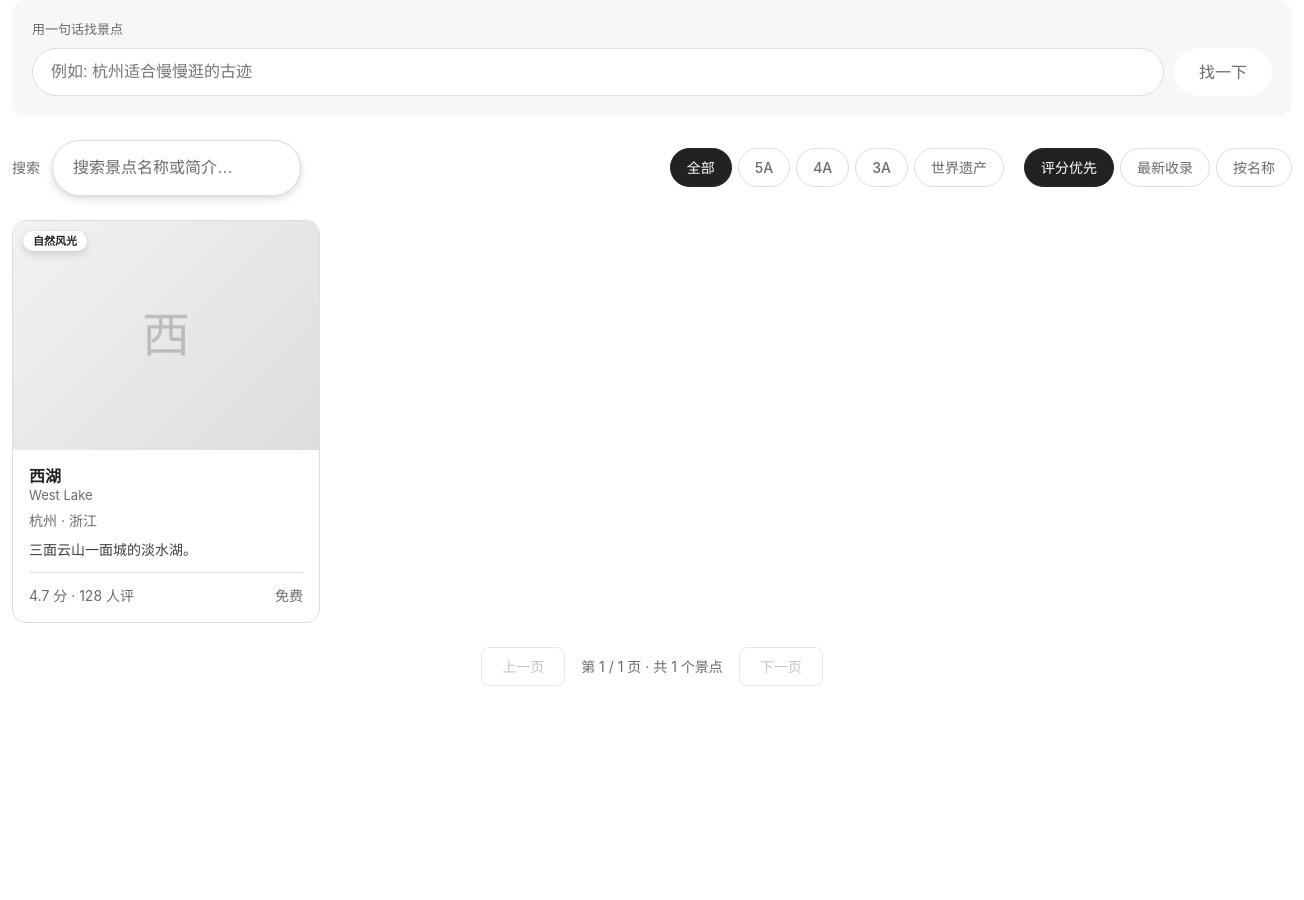
Test case: AttractionBrowser › AI 可用且出了结果时, 普通检索那条列表收起来
The width and height of the screenshot is (1304, 900).
Check: the heading "西湖" is shown, box [29,466,61,486]
// 面板的输入与普通搜索框都是 searchbox, 用 label 区分
Type "杭州的古迹" into the search field labelled "用一句话找景点" at (598, 72), box [32,48,1164,96]
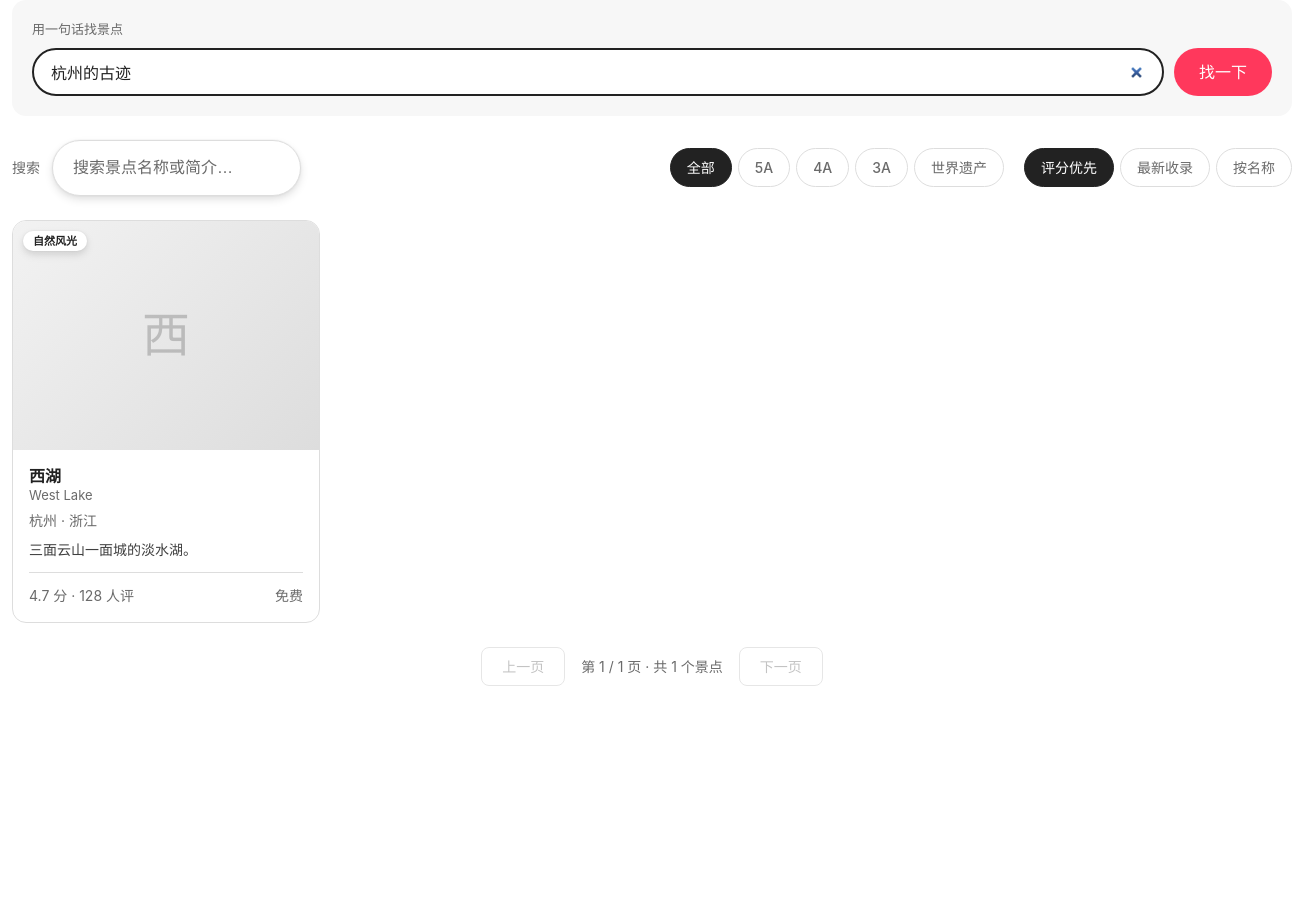
Click the button "找一下" at (1223, 72), box [1174,48,1272,96]
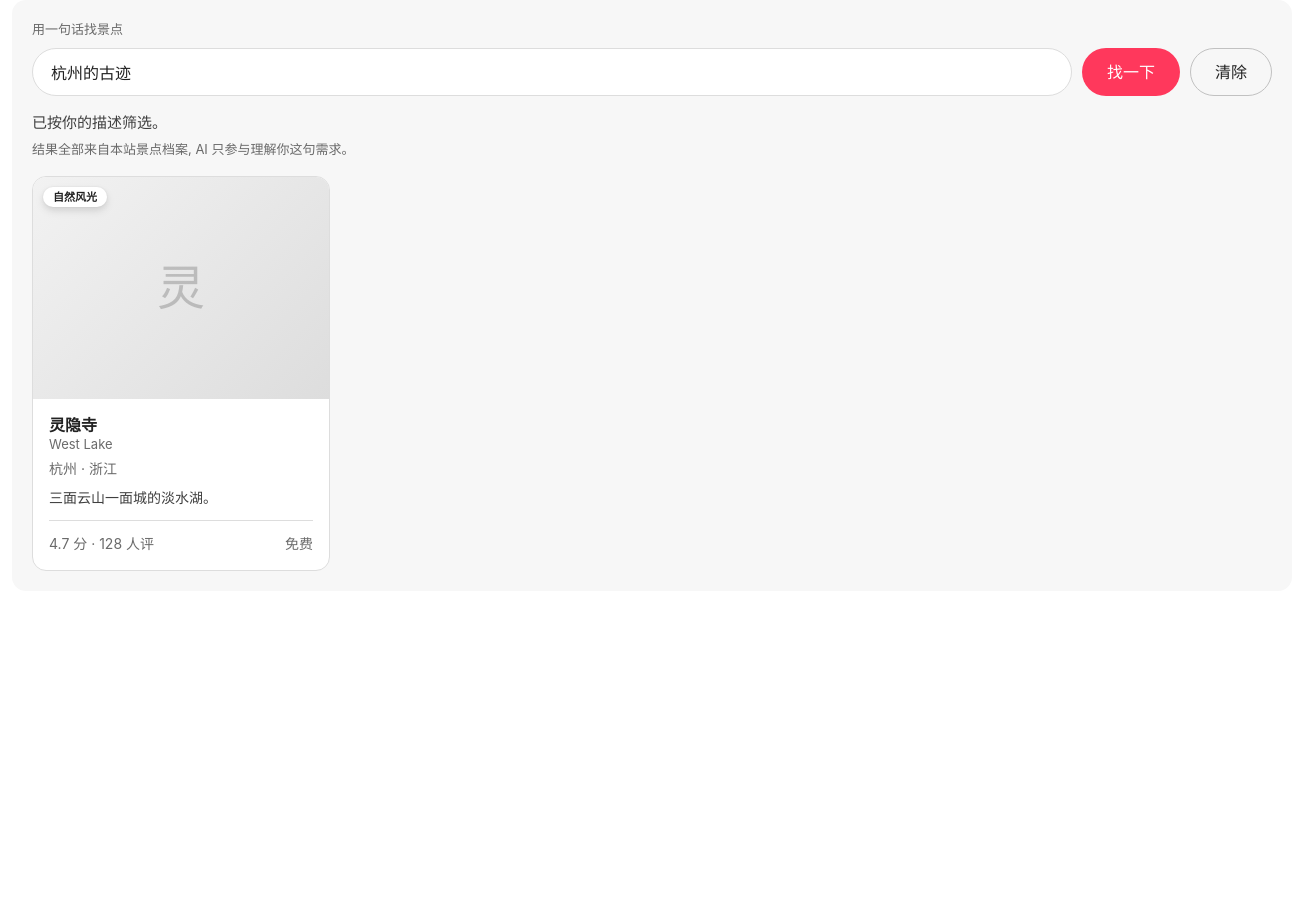
Check: the heading "灵隐寺" is shown, box [49,414,97,434]
Check: the link "西湖" is gone
Check: the element "等级筛选" is gone
